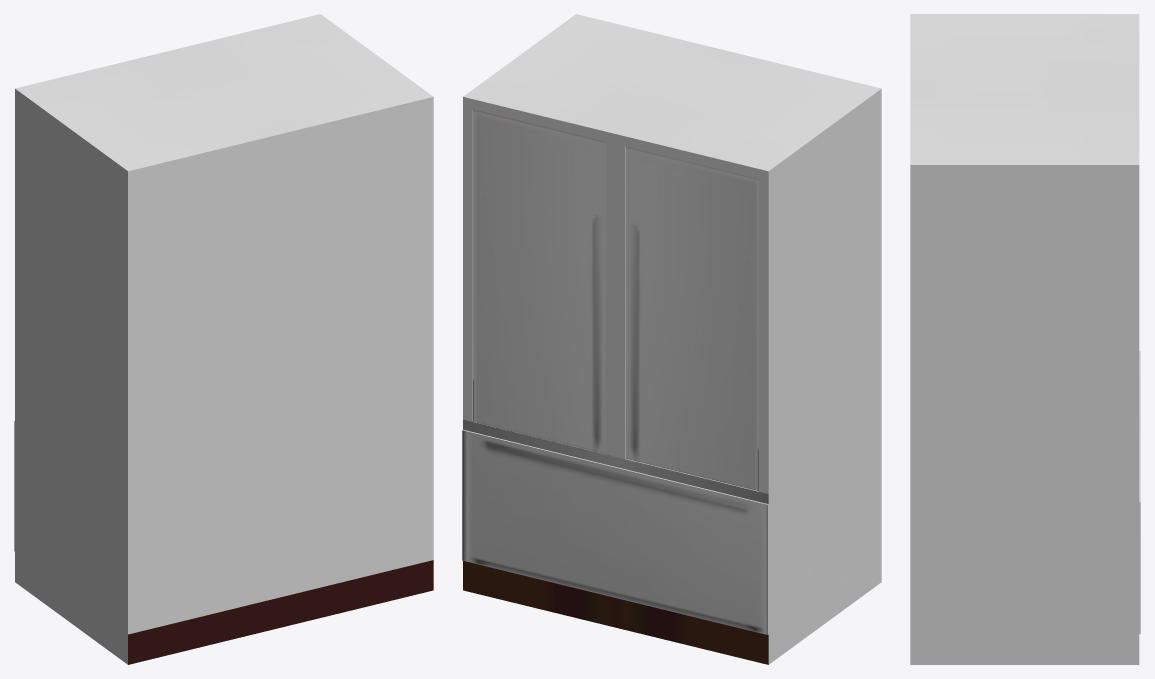
File: Fridge.fbx
3 views of the same model, side by side, from view 1: azimuth 30°, elevation 25°; view 2: azimuth 150°, elevation 25°; view 3: azimuth 270°, elevation 25° (orthographic).
Parts seen in each view (by area): view 1: Fridge; view 2: Fridge, FridgeTop, FridgeTop.001, FridgeDoorBottom; view 3: Fridge, FridgeDoorBottom.
Boxes of the visible parts, x1,y1,x2,y2 form: Fridge: (15,14,433,664); Fridge: (463,14,881,664); FridgeTop: (473,109,605,454); FridgeTop.001: (626,146,758,491); FridgeDoorBottom: (462,429,768,634); Fridge: (910,14,1139,664); FridgeDoorBottom: (1136,351,1140,634).
Size of the model in its own units: 149 by 230 by 96.37.
